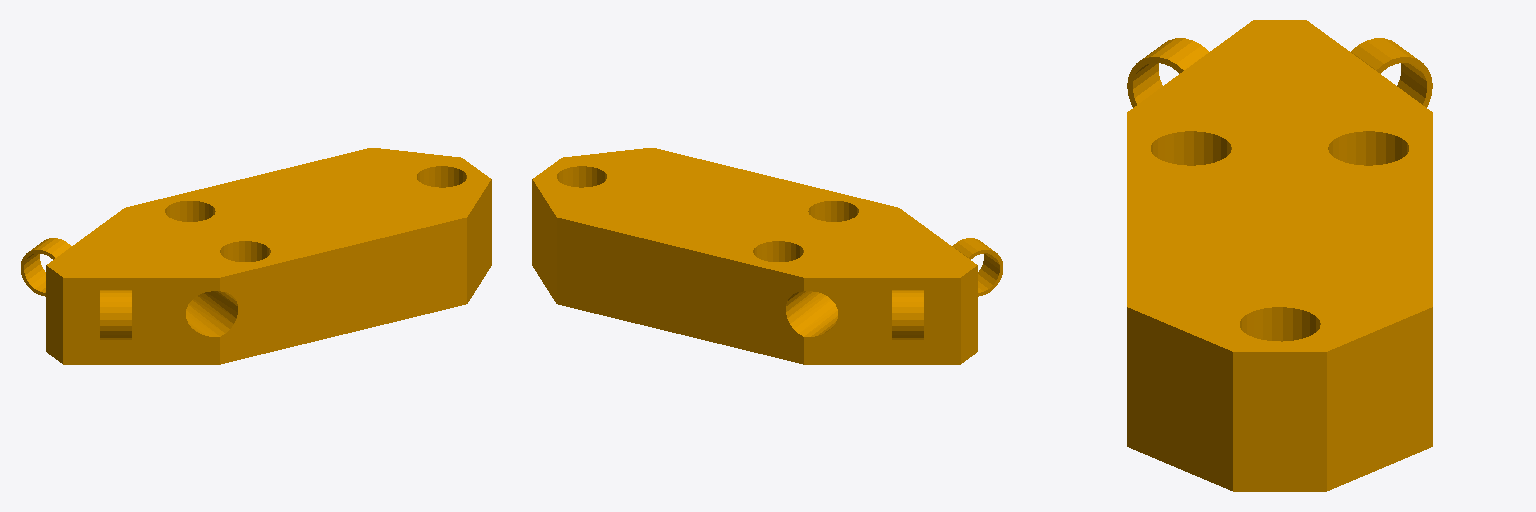
URDF robot description (race_auv):
<?xml version="1.0"?>

<robot name="race_auv">
   <link name="nose_tip_link">
        <visual>
            <origin xyz="00.0 0.0 0.0" rpy="0.0 0.0 0.0"/>
            <geometry>
                <mesh filename="package://race_auv_description/mesh/RACE_body.stl" scale="0.001 0.001 0.001"/>
            </geometry>
        </visual>
    </link>

    
    <link name="base_link"/>
    <joint name="base_link" type="fixed">
        <origin xyz="0.0 0.0 0.0" rpy="0.0 0.0 0.0"/>
        <parent link="base_link"/>
        <child link="nose_tip_link"/>
    </joint>

    <link name="cg_link"/>
    <joint name="cg_joint" type="fixed">
        <origin xyz="0.0 0.0 0.0" rpy="3.1415926 0.0 0.0"/>
        <parent link="base_link"/>
        <child link="cg_link"/>
    </joint>


    <link name="imu"/>
    <joint name="imu_joint" type="fixed">
        <origin xyz="-0.5 0.0 -0.08" rpy="0.0 0.0 0.0"/>
        <parent link="base_link"/>
        <child link="imu"/>
    </joint>

    <link name="imu_sf"/>
    <joint name="imu__sf_joint" type="fixed">
        <origin xyz="-0.5 0.0 -0.08" rpy="0.0 0.0 0.0"/>
        <parent link="base_link"/>
        <child link="imu_sf"/>
    </joint>

    <link name="dvl"/>
    <joint name="dvl_joint" type="fixed">
        <origin xyz="-0.5 0.0 0.0" rpy="3.1415926 0.0 0.0"/>
        <parent link="base_link"/>
        <child link="dvl"/>
    </joint>

     <link name="dvl_sf"/>
    <joint name="dvl_sf_joint" type="fixed">
        <origin xyz="-0.5 0.0 0.0" rpy="3.1415926 0.0 0.0"/>
        <parent link="base_link"/>
        <child link="dvl_sf"/>
    </joint>

    <link name="gps"/>
    <joint name="gps_joint" type="fixed">
        <origin xyz="-0.5 0.0 -0.18" rpy="0.0 0.0 0.0"/>
        <parent link="base_link"/>
        <child link="gps"/>
    </joint>

    <link name="pressure"/>
    <joint name="pressure_joint" type="fixed">
        <origin xyz="-0.2 0.0 0.0" rpy="0.0 0.0 0.0"/>
        <parent link="base_link"/>
        <child link="pressure"/>
    </joint>

<!-- 
    <link name="ping360_link"/>
    <joint name="ping360_joint" type="fixed">
        <origin xyz="0.63 0.0 -0.085" rpy="0.0 0.0 3.1415926"/>
        <parent link="base_link"/>
        <child link="ping360_link"/>
    </joint>
-->

    <!-- thrusters -->
    <link name="sway_stern_thruster_link"/>
    <joint name="sway_stern_thruster_joint" type="fixed">
        <origin xyz="-0.66635 0.0 -0.07535" rpy="0.0 0.0 1.571"/>
        <parent link="base_link"/>
        <child link="sway_stern_thruster_link"/>
    </joint>

    <link name="heave_bow_thruster_link"/>
    <joint name="heave_bow_thruster_joint" type="fixed">
        <origin xyz="-0.07535 0.0 -0.07535" rpy="0.0 -1.571 0.0"/>
        <parent link="base_link"/>
        <child link="heave_bow_thruster_link"/>
    </joint>

    <link name="heave_stern_port_thruster_link"/>
    <joint name="heave_stern_port_thruster_joint" type="fixed">
        <origin xyz="-0.56 -0.1034 -0.07535" rpy="0.0 -1.571 0.0"/>
        <parent link="base_link"/>
        <child link="heave_stern_port_thruster_link"/>
    </joint>

    <link name="heave_stern_stbd_thruster_link"/>
    <joint name="heave_stern_stbd_thruster_joint" type="fixed">
        <origin xyz="-0.56 0.1034 -0.07535" rpy="0.0 -1.571 0.0"/>
        <parent link="base_link"/>
        <child link="heave_stern_stbd_thruster_link"/>
    </joint>

    <link name="surge_port_thruster_link"/>
    <joint name="surge_port_thruster_joint" type="fixed">
        <origin xyz="-0.86 -0.125 -0.05485" rpy="0.0 0.8 -0.52"/>
        <parent link="base_link"/>
        <child link="surge_port_thruster_link"/>
    </joint>
    
    <link name="surge_stbd_thruster_link"/>
    <joint name="surge_stbd_thruster_joint" type="fixed">
        <origin xyz="-0.86 0.125 -0.05485" rpy="0.0 0.8 0.52"/>
        <parent link="base_link"/>
        <child link="surge_stbd_thruster_link"/>
    </joint>

</robot>

--- Render facts (derived) ---
The picture shows the robot from 3 angles, left to right: view 1: azimuth 30°, elevation 25°; view 2: azimuth 150°, elevation 25°; view 3: azimuth 270°, elevation 25°; orthographic projection.
Model race_auv with 15 links and 14 joints (14 fixed), rooted at base_link, posed every joint at zero.
Visible links, largest first — view 1: nose_tip_link; view 2: nose_tip_link; view 3: nose_tip_link.
Boxes of the visible links, left/top/right/bottom form: nose_tip_link: left=21, top=148, right=491, bottom=364; nose_tip_link: left=532, top=148, right=1002, bottom=364; nose_tip_link: left=1127, top=20, right=1432, bottom=491.
Bounding box of the posed robot: 0.9127 × 0.3575 × 0.1797 m (x, y, z).
Meshes: 1 distinct files referenced, 1 mesh visuals loaded (1 binary STL).